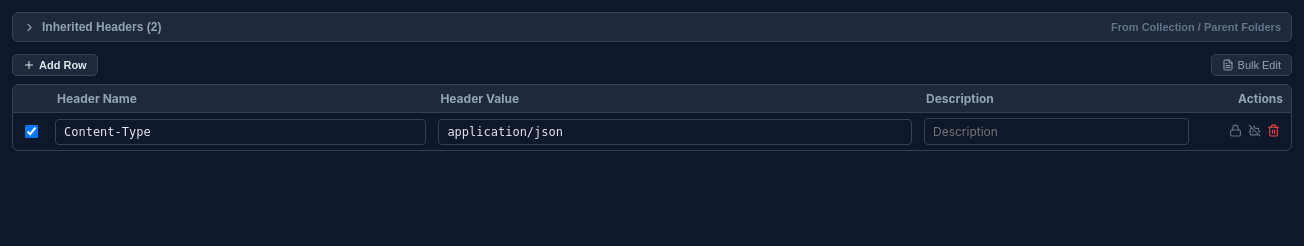
it: RequestHeadersTab › renders request headers with standard header autocomplete and toggles inherited headers
Expected: the field with test id "request-headers-key-0" holds "Content-Type", [55,118,426,144]
Step 1. Click the button with test id "toggle-inherited-headers-btn" → (96, 27), box [13,13,1291,41]
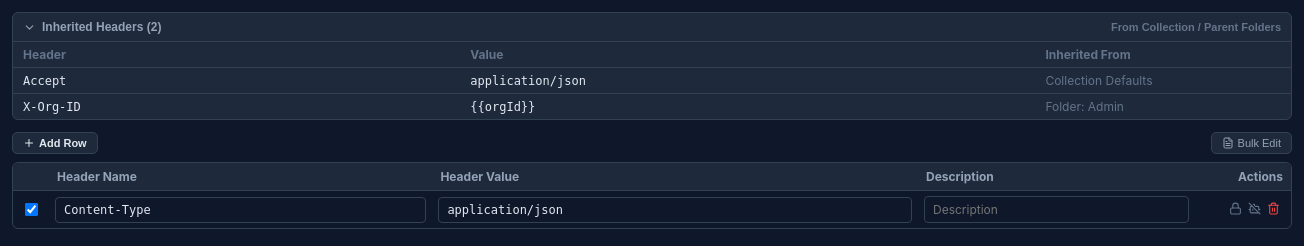
Expected: the table with test id "inherited-headers-table" is shown, [13,41,1291,119]
Expected: the row with test id "inherited-header-row-0" shows "Accept", [23,74,66,88]
Expected: the row with test id "inherited-header-row-1" shows "Folder: Admin", [1045,99,1124,114]
